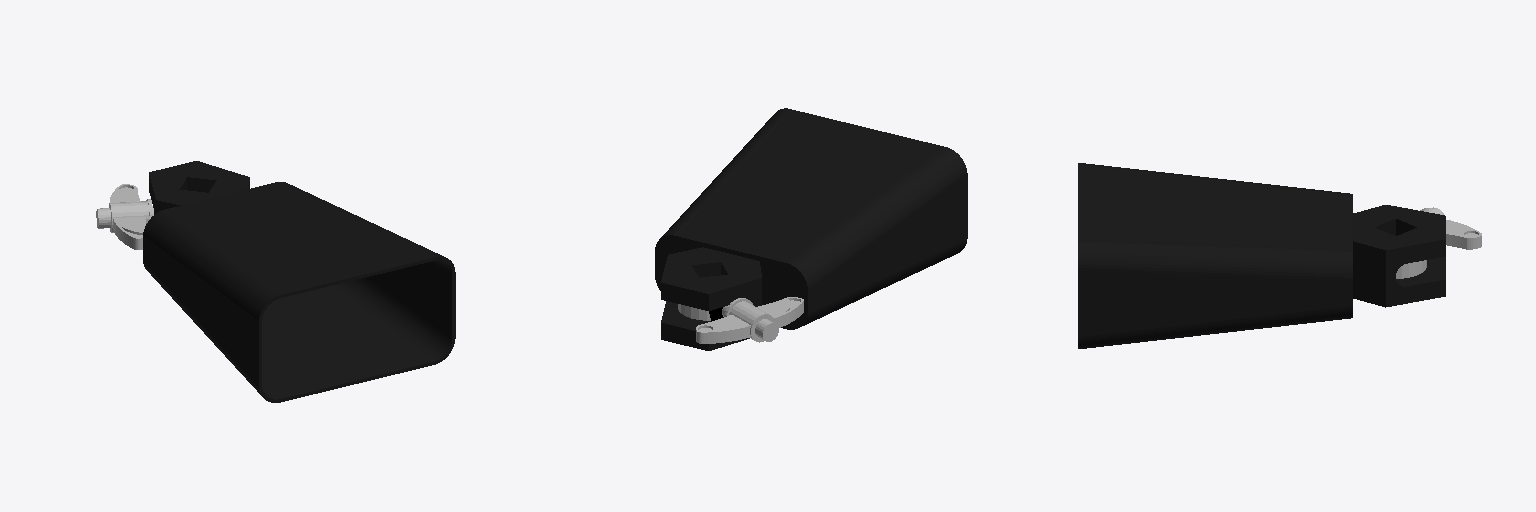
Rendered from Cowbell.obj.
3 views of the same model, side by side, from view 1: azimuth 30°, elevation 25°; view 2: azimuth 150°, elevation 25°; view 3: azimuth 270°, elevation 25° (orthographic).
Parts seen in each view (by area): view 1: Mesh1 Body1 Cowbell1 Model, Mesh3 Feste_1_2_2 Feste1 Cowbell1 Model, Mesh2 Feste_1_2_1 Feste1 Cowbell1 Model, Mesh7 Vinge1 Vingeskrue1 Skrue1 Cowbell1 Model, Mesh6 Mutter1 Vingeskrue1 Skrue1 Cowbell1 Model; view 2: Mesh1 Body1 Cowbell1 Model, Mesh2 Feste_1_2_1 Feste1 Cowbell1 Model, Mesh3 Feste_1_2_2 Feste1 Cowbell1 Model, Mesh8 Vinge2 Vingeskrue1 Skrue1 Cowbell1 Model, Mesh7 Vinge1 Vingeskrue1 Skrue1 Cowbell1 Model, Mesh4 Threads1 Festeskrue1 Skrue1 Cowbell1 Model, Mesh6 Mutter1 Vingeskrue1 Skrue1 Cowbell1 Model; view 3: Mesh1 Body1 Cowbell1 Model, Mesh3 Feste_1_2_2 Feste1 Cowbell1 Model, Mesh2 Feste_1_2_1 Feste1 Cowbell1 Model, Mesh8 Vinge2 Vingeskrue1 Skrue1 Cowbell1 Model.
Part boxes in pixels (left/top/right/bottom): Mesh1 Body1 Cowbell1 Model: left=143, top=182, right=455, bottom=402; Mesh3 Feste_1_2_2 Feste1 Cowbell1 Model: left=173, top=161, right=249, bottom=196; Mesh2 Feste_1_2_1 Feste1 Cowbell1 Model: left=149, top=167, right=213, bottom=214; Mesh7 Vinge1 Vingeskrue1 Skrue1 Cowbell1 Model: left=113, top=217, right=145, bottom=249; Mesh6 Mutter1 Vingeskrue1 Skrue1 Cowbell1 Model: left=109, top=201, right=149, bottom=232; Mesh1 Body1 Cowbell1 Model: left=655, top=108, right=967, bottom=329; Mesh2 Feste_1_2_1 Feste1 Cowbell1 Model: left=685, top=254, right=761, bottom=350; Mesh3 Feste_1_2_2 Feste1 Cowbell1 Model: left=661, top=247, right=730, bottom=345; Mesh8 Vinge2 Vingeskrue1 Skrue1 Cowbell1 Model: left=696, top=315, right=750, bottom=343; Mesh7 Vinge1 Vingeskrue1 Skrue1 Cowbell1 Model: left=757, top=297, right=803, bottom=327; Mesh4 Threads1 Festeskrue1 Skrue1 Cowbell1 Model: left=709, top=298, right=778, bottom=341; Mesh6 Mutter1 Vingeskrue1 Skrue1 Cowbell1 Model: left=729, top=301, right=774, bottom=342; Mesh1 Body1 Cowbell1 Model: left=1078, top=163, right=1352, bottom=348; Mesh3 Feste_1_2_2 Feste1 Cowbell1 Model: left=1353, top=227, right=1445, bottom=307; Mesh2 Feste_1_2_1 Feste1 Cowbell1 Model: left=1353, top=205, right=1445, bottom=266; Mesh8 Vinge2 Vingeskrue1 Skrue1 Cowbell1 Model: left=1446, top=220, right=1481, bottom=249.
Size of the model in its own units: 0.09 by 0.047 by 0.1602.